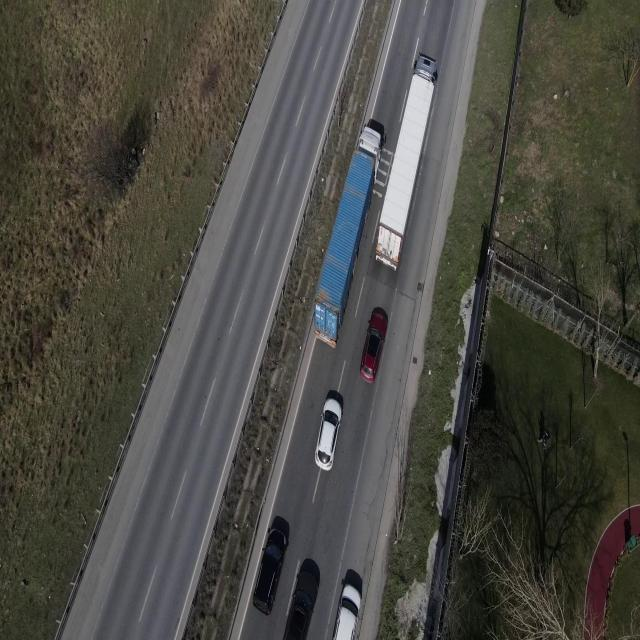p3rson: (537, 429, 550, 449)
